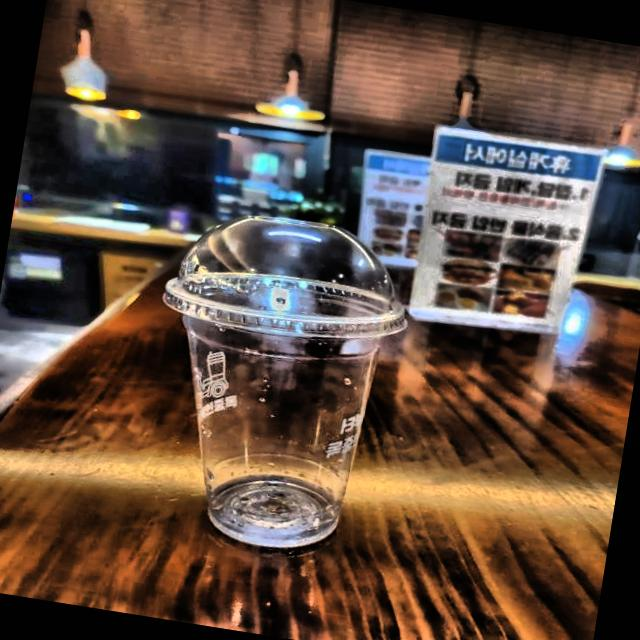plastic cup: (87, 178, 442, 602)
